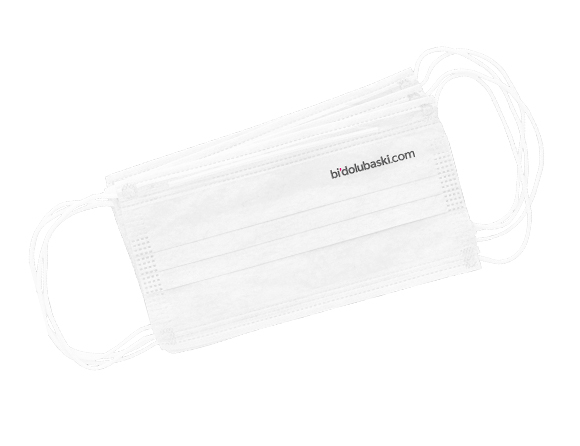maske: (106, 64, 476, 351)
